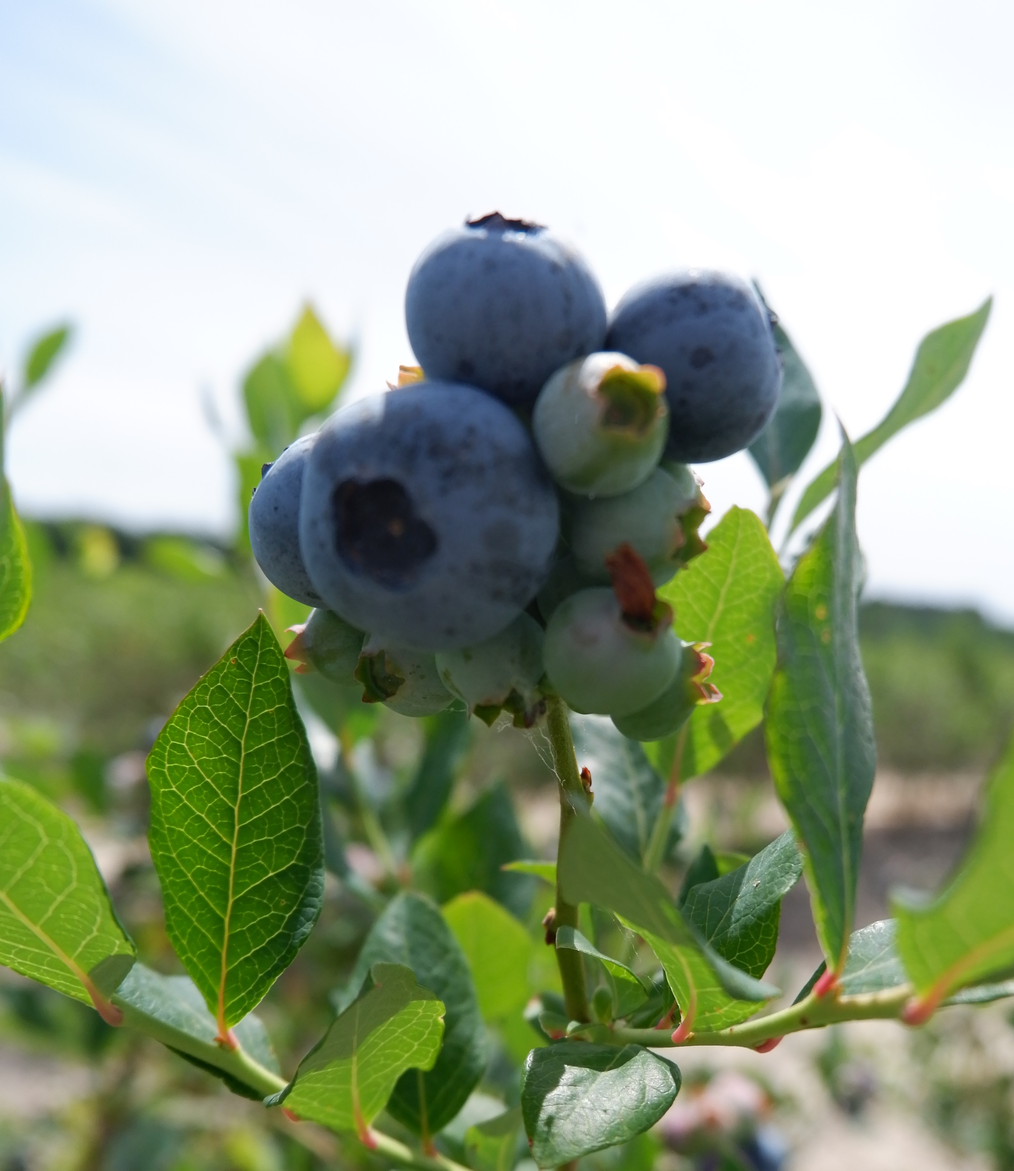Immature: (536, 354, 668, 492), (560, 465, 709, 578), (546, 591, 679, 715), (612, 644, 720, 739), (440, 614, 543, 712), (360, 637, 451, 716), (291, 610, 363, 682)
Mature: (302, 387, 553, 647), (406, 216, 602, 412), (610, 268, 782, 456), (251, 438, 318, 605)
